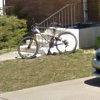Bicycle: (15, 19, 83, 64)
